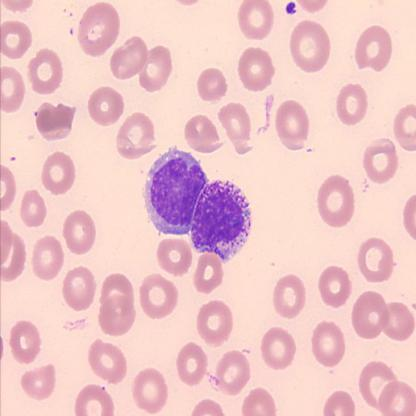Myelocyte: (149, 151, 207, 235), (192, 178, 243, 258), (194, 173, 240, 191), (240, 175, 244, 183)
